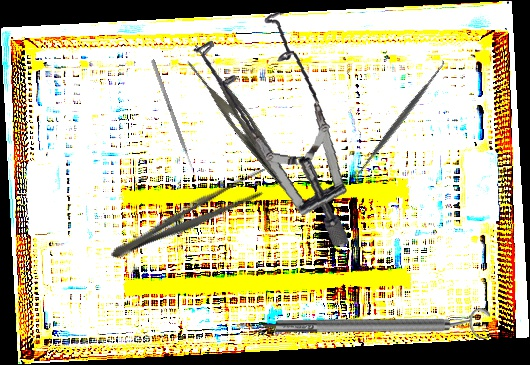Dressing Forceps: (175, 42, 321, 208), (105, 163, 277, 269)
Fixation Ring: (276, 307, 490, 342)
Pusher: (150, 59, 198, 179)
Spatula Surgical: (348, 57, 452, 185)
Speculum: (170, 2, 377, 248)
Surgical Spoon: (262, 319, 389, 331)
